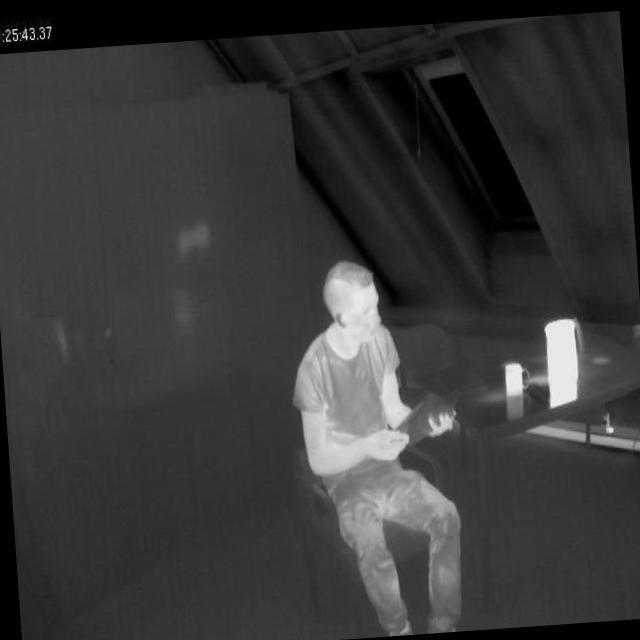person: (282, 243, 479, 640)
